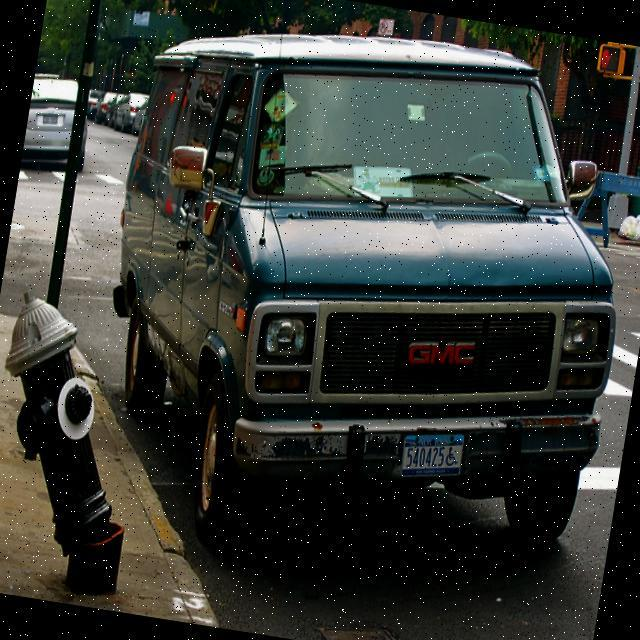fire_hydrant: (0, 284, 169, 600)
